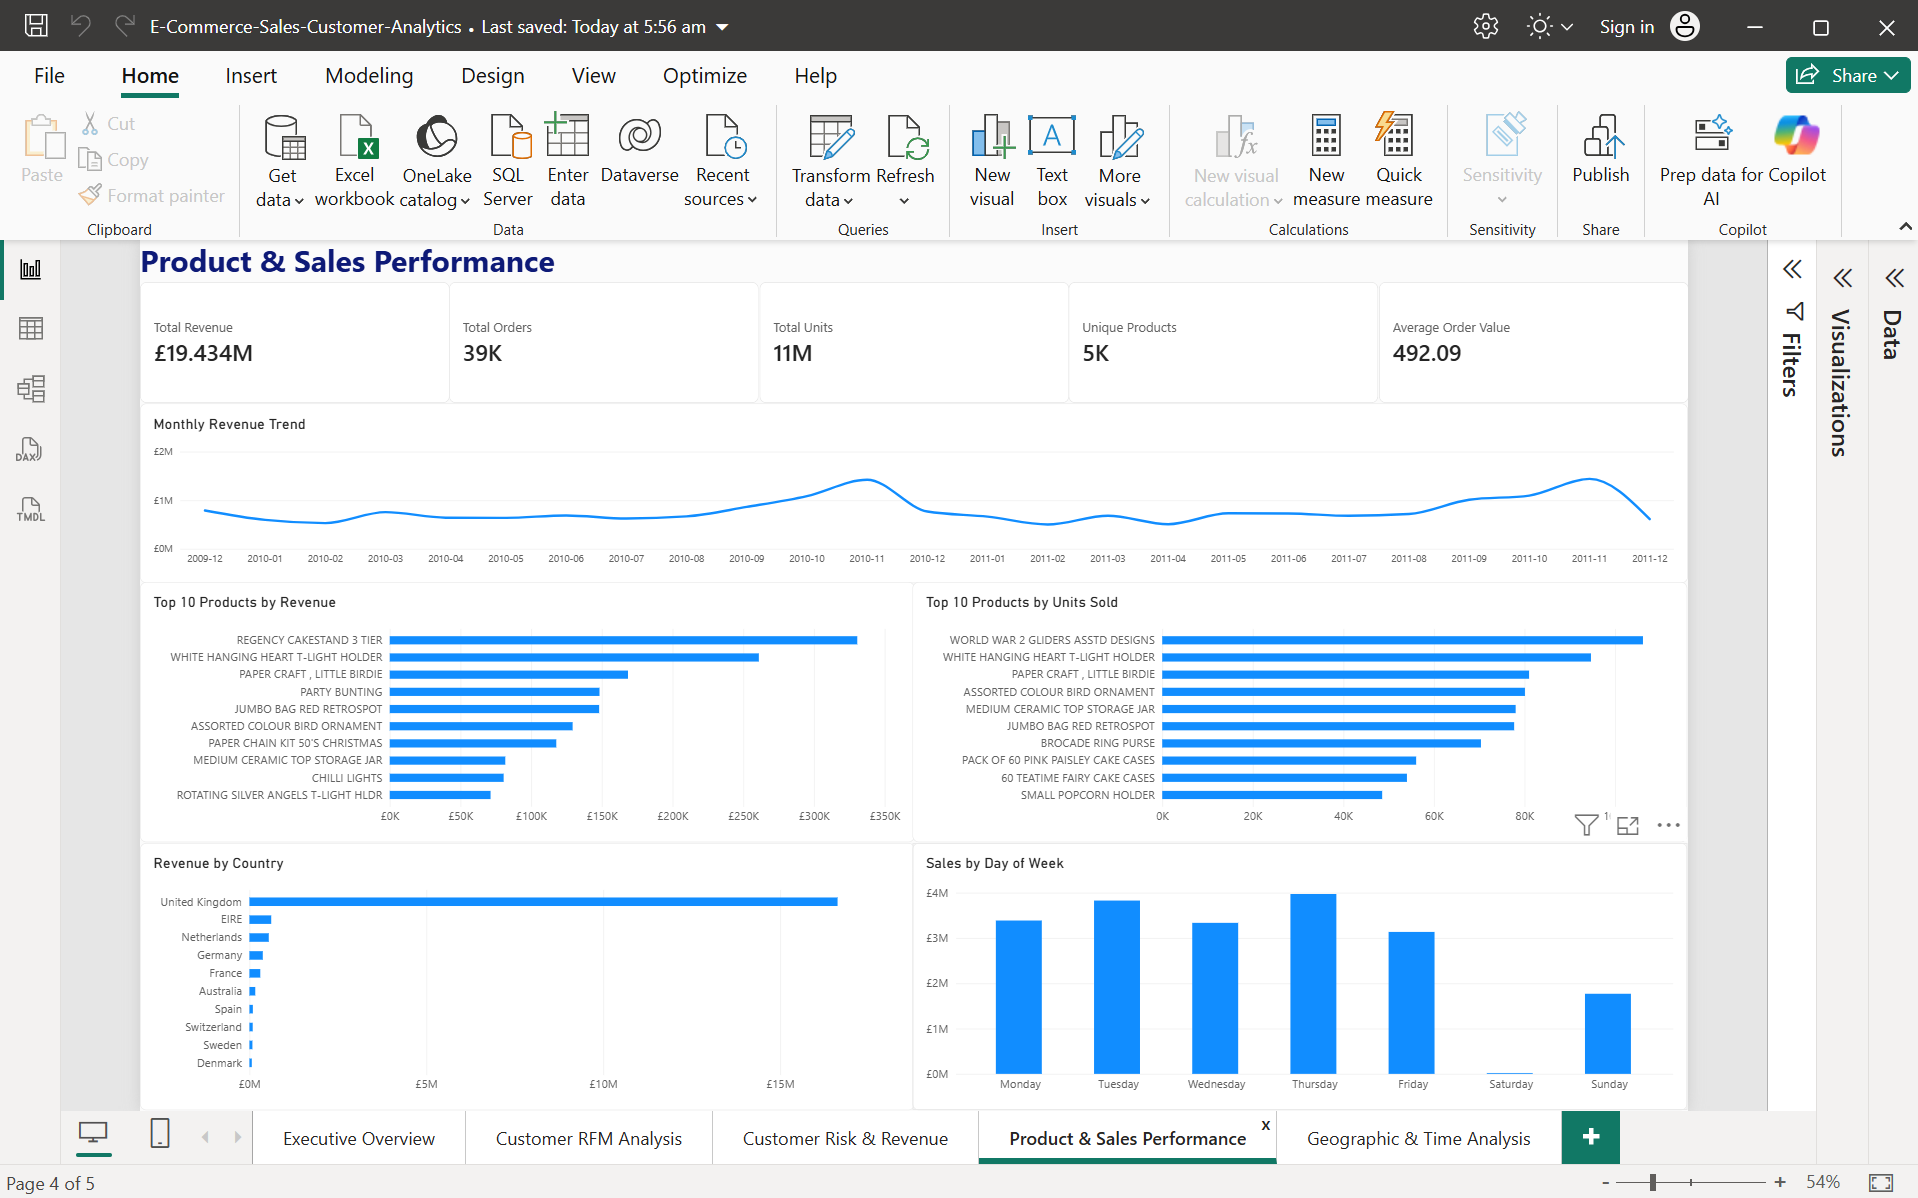

The dashboard page shown, as its layout file describes it:
{"tool":"powerbi","page":{"name":"Product & Sales Performance","canvas":[1920,1080],"ordinal":3},"visuals":[{"type":"cardVisual","fields":{"Data":["cleaned_sales.Total Revenue"]},"box":[0,52.2,384,150],"z":0},{"type":"cardVisual","fields":{"Data":["cleaned_sales.Total Orders"]},"box":[383.9,52.2,384,150],"z":1},{"type":"cardVisual","fields":{"Data":["cleaned_sales.Total Units"]},"box":[767.7,52.2,384,150],"z":2},{"type":"cardVisual","fields":{"Data":["Date.Unique Products"]},"box":[1151.6,52.2,384,150],"z":3},{"type":"cardVisual","fields":{"Data":["cleaned_sales.Average Order Value"]},"box":[1535.4,52.2,384,150],"z":4},{"type":"textbox","box":[0,0,1920,52],"z":5},{"type":"lineChart","title":"Monthly Revenue Trend","fields":{"Category":["Date.Year Month"],"Y":["cleaned_sales.Total Revenue"]},"box":[0,202.1,1919.3,222.6],"z":6},{"type":"clusteredBarChart","title":"Top 10 Products by Revenue","fields":{"Category":["cleaned_sales.description"],"Y":["cleaned_sales.Total Revenue"]},"box":[0,424.7,960.8,322.5],"z":7},{"type":"clusteredBarChart","title":"Top 10 Products by Units Sold","fields":{"Category":["cleaned_sales.description"],"Y":["cleaned_sales.Total Units"]},"box":[958.5,424.7,960.8,322.5],"z":8},{"type":"clusteredBarChart","title":"Revenue by Country","fields":{"Category":["cleaned_sales.country"],"Y":["cleaned_sales.Total Revenue"]},"box":[0,747.3,960.8,331.6],"z":9},{"type":"clusteredColumnChart","title":"Sales by Day of Week","fields":{"Category":["Date.Day of Week"],"Y":["cleaned_sales.Total Revenue"]},"box":[958.5,747.3,960.8,331.6],"z":10}]}

Visuals, with their boxes on the page's 1920x1080 design canvas (x1, y1, x2, y2). These are canvas units, not pixel positions in the 1918x1198 screenshot, which may show the page scaled, cropped or inside an application window:
cardVisual - cleaned_sales.Total Revenue: bbox(0, 52, 384, 202)
cardVisual - cleaned_sales.Total Orders: bbox(384, 52, 768, 202)
cardVisual - cleaned_sales.Total Units: bbox(768, 52, 1152, 202)
cardVisual - Date.Unique Products: bbox(1152, 52, 1536, 202)
cardVisual - cleaned_sales.Average Order Value: bbox(1535, 52, 1919, 202)
textbox: bbox(0, 0, 1920, 52)
"Monthly Revenue Trend" lineChart: bbox(0, 202, 1919, 425)
"Top 10 Products by Revenue" clusteredBarChart: bbox(0, 425, 961, 747)
"Top 10 Products by Units Sold" clusteredBarChart: bbox(958, 425, 1919, 747)
"Revenue by Country" clusteredBarChart: bbox(0, 747, 961, 1079)
"Sales by Day of Week" clusteredColumnChart: bbox(958, 747, 1919, 1079)
